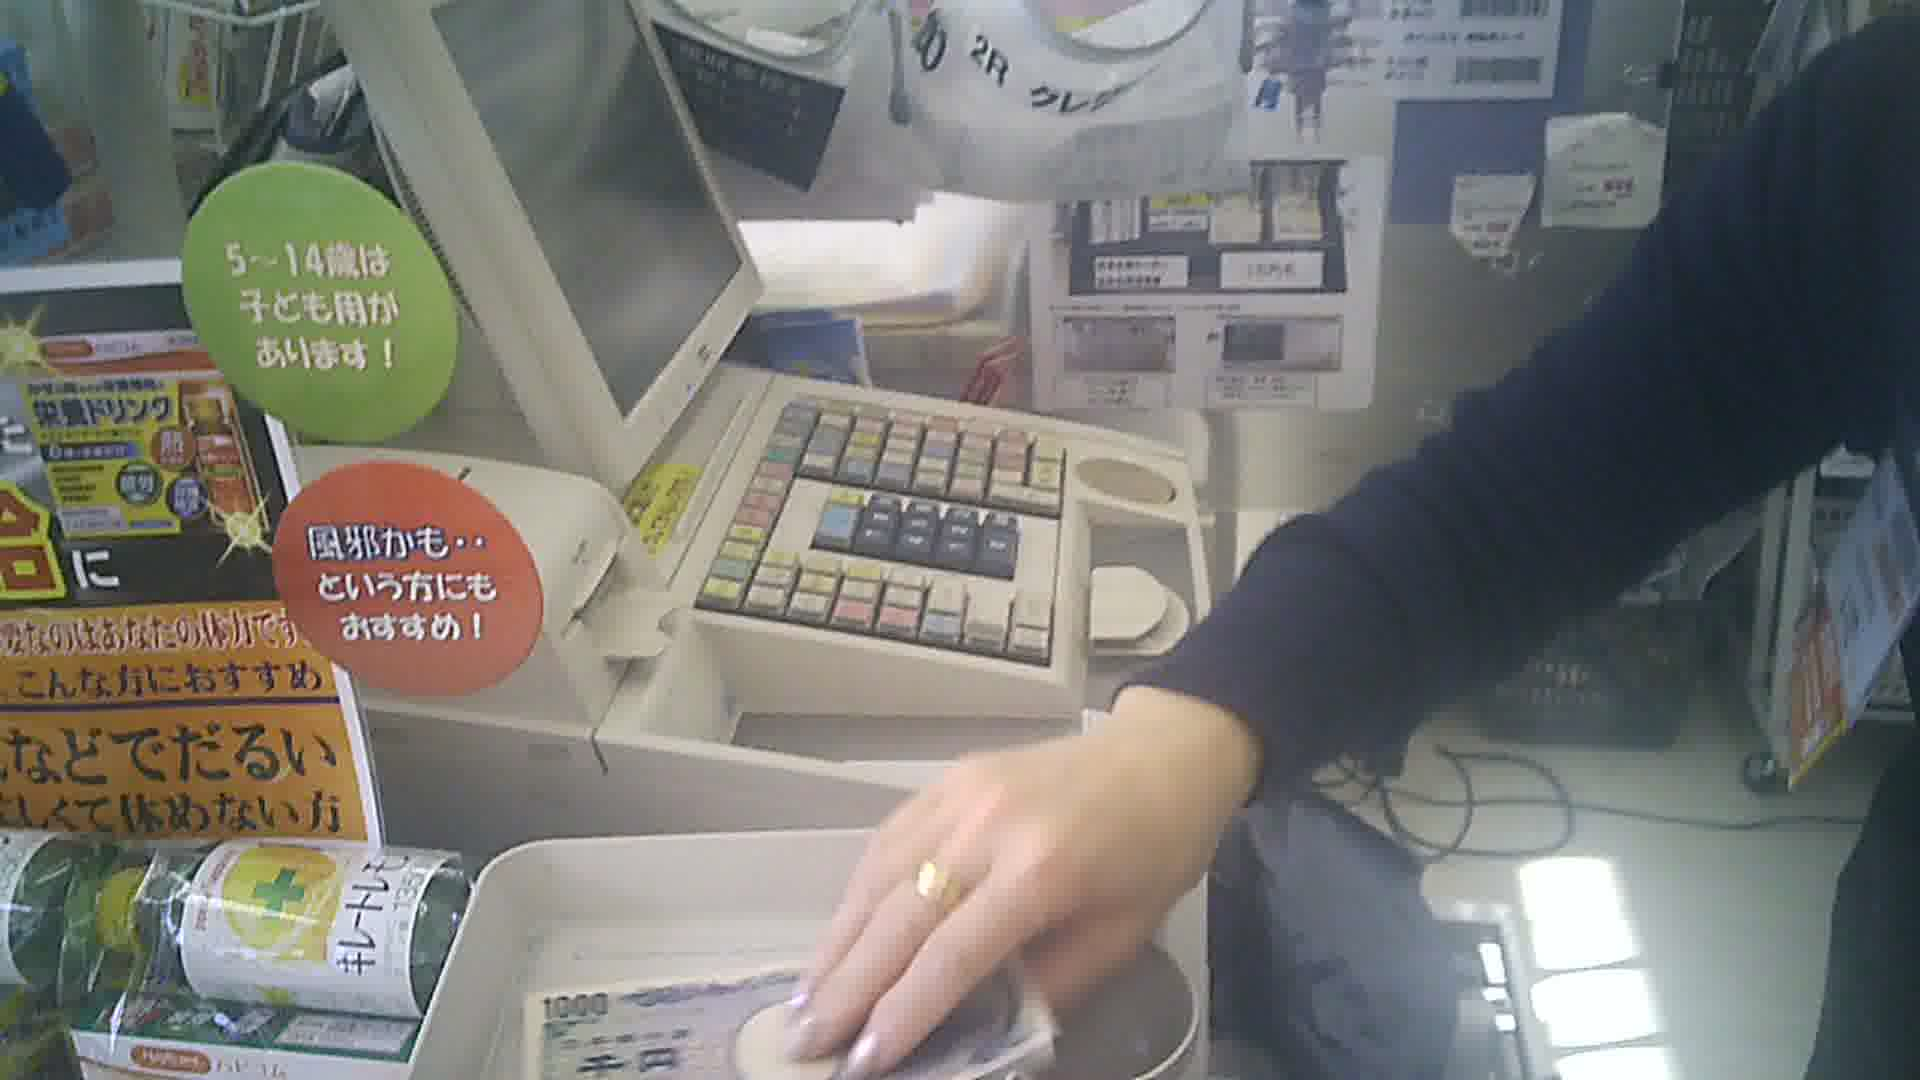1,000 Yen: (509, 952, 1040, 1079)
